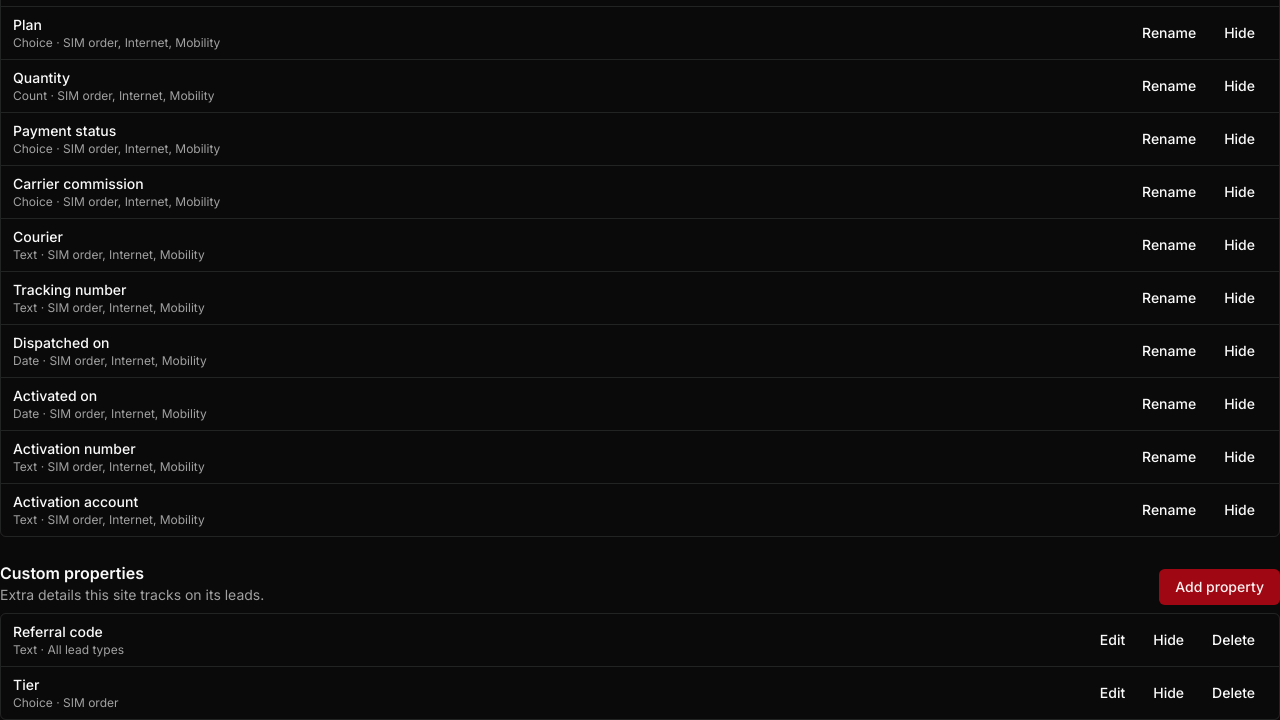
Scenario: PropertiesSettings properties › says where the leads holding a value are when deleting a property is refused
The image size is (1280, 720).
(page scrolled)
expect the list named "Custom properties" is shown: met, box x1=0 y1=613 x2=1279 y2=719
Click the button with aria-label "Delete Referral code".
click(1234, 640)  # box x1=1200 y1=624 x2=1267 y2=656
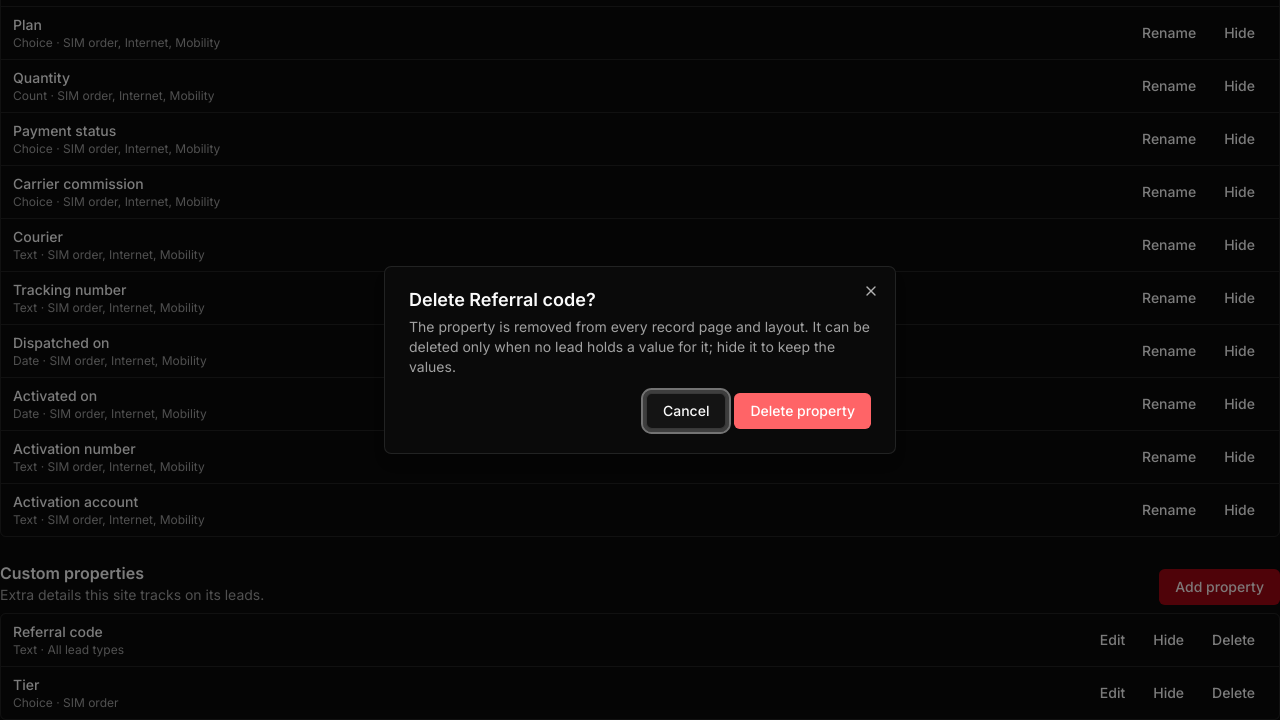
Click the button "Delete property".
click(803, 411)  # box x1=734 y1=393 x2=871 y2=429
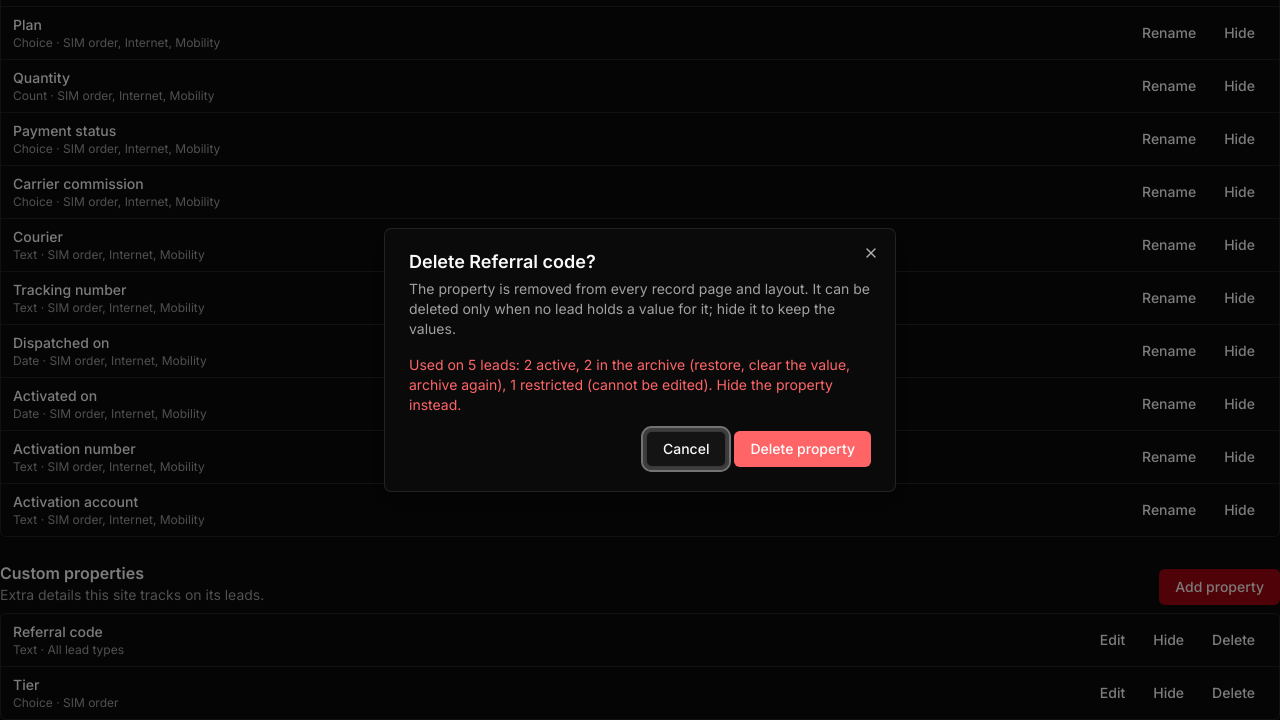
expect the dialog is shown: met, box x1=384 y1=228 x2=896 y2=492
expect the text "Used on 5 leads: 2 active, 2 in the archive (restore, clear the value, archive again), 1 restricted (cannot be edited). " is shown: met, box x1=409 y1=356 x2=850 y2=413
